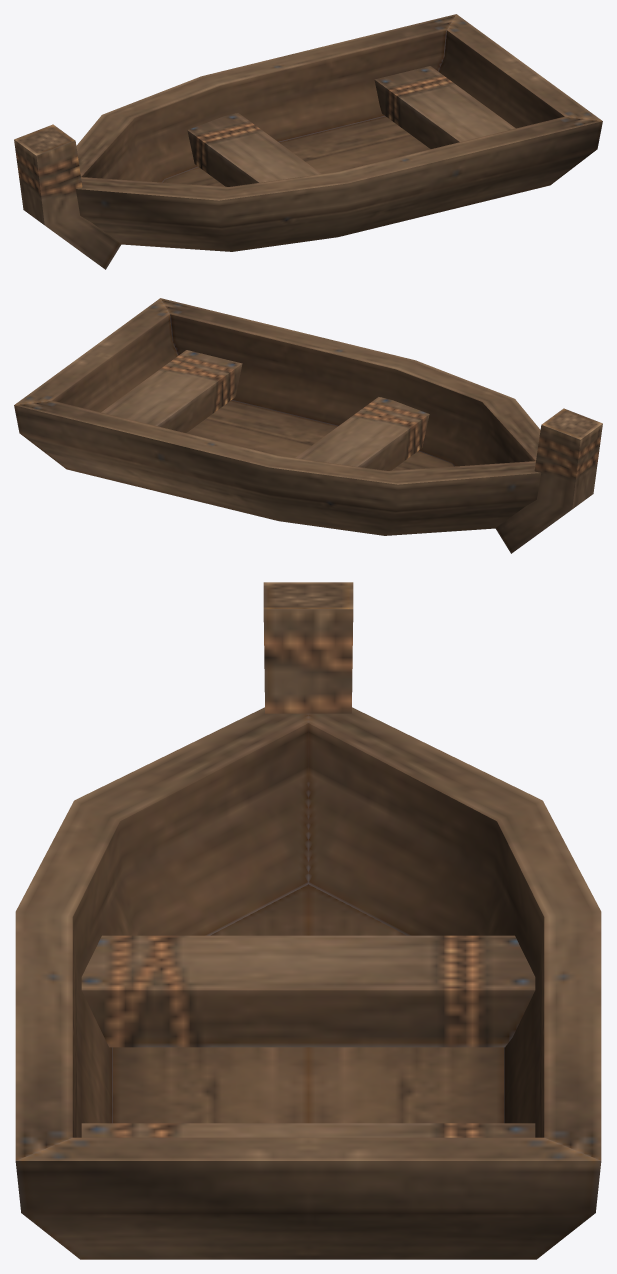
The model's file is etc_prop_5.FBX.
3 views of the same model, one above another, from view 1: azimuth 30°, elevation 25°; view 2: azimuth 150°, elevation 25°; view 3: azimuth 270°, elevation 25° (orthographic). The views are drawn at different scales.
Visible parts, largest first — view 1: etc_prop_5; view 2: etc_prop_5; view 3: etc_prop_5.
Part boxes in pixels (x1=…): etc_prop_5: x1=14, y1=14, x2=602, y2=269; etc_prop_5: x1=14, y1=298, x2=602, y2=553; etc_prop_5: x1=15, y1=582, x2=601, y2=1259.
Size of the model in its own units: 170 by 44.05 by 85.26.
